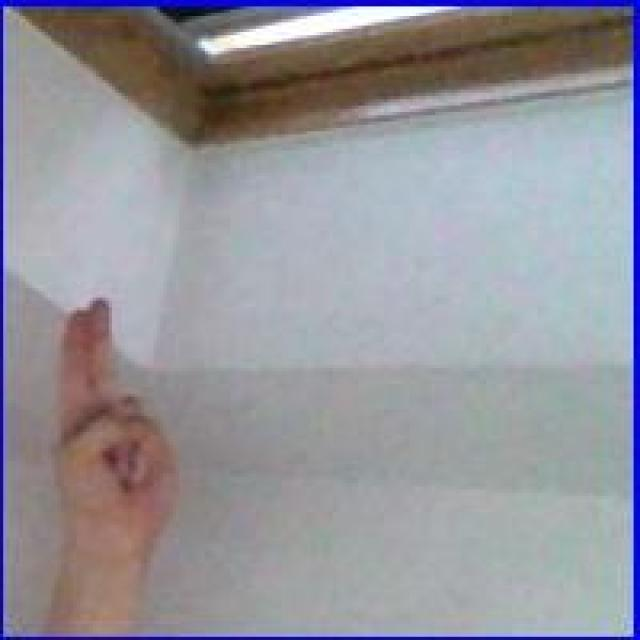U: (43, 288, 181, 560)
